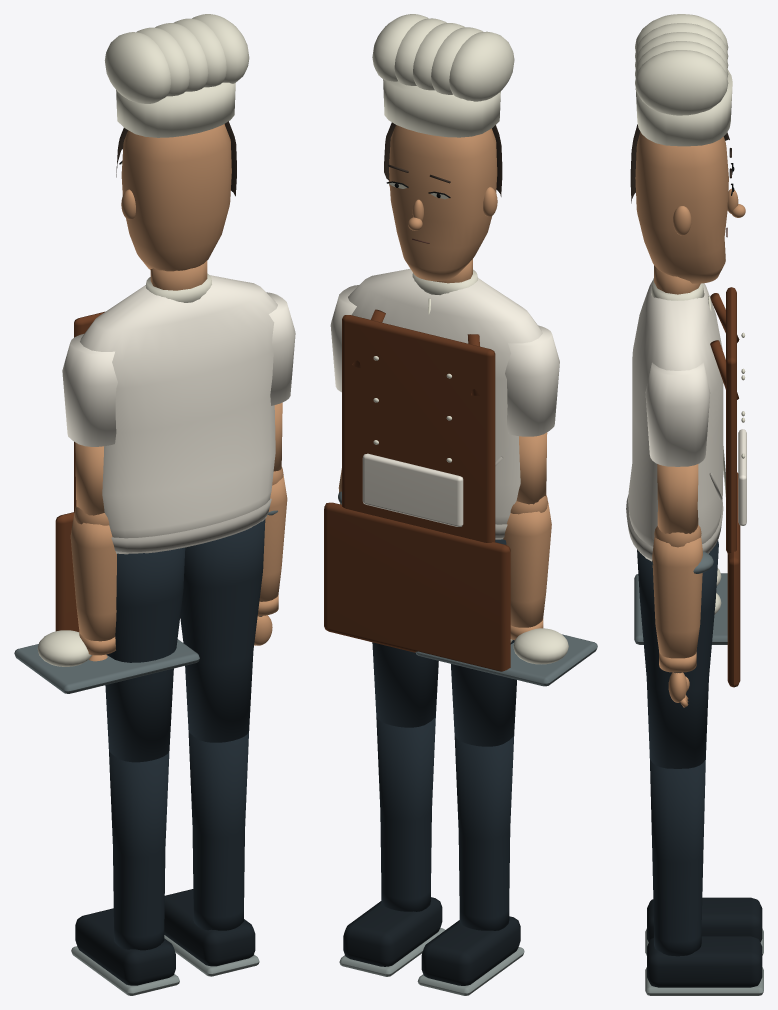
Rendered from npc_dining.glb.
3 views of the same model, side by side, from view 1: azimuth 30°, elevation 25°; view 2: azimuth 150°, elevation 25°; view 3: azimuth 270°, elevation 25° (orthographic).
Parts seen in each view (by area): view 1: ApronPocket, TrouserThigh.001, ChefHatBand, AdultFace, TrouserThigh, Knee, Knee.001, Cuff, ShortSleeve, OrdinaryShoe, Tray, OrdinaryShoe.001 (+10 smaller); view 2: ApronBib, ApronPocket, ChefHatBand, AdultFace, Knee, Knee.001, Cuff, ShortSleeve, TrouserThigh.001, TrouserThigh, OrdinaryShoe, OrdinaryShoe.001 (+8 smaller); view 3: ApronPocket, AdultFace, ChefHatBand, Knee.001, TrouserThigh.001, Cuff.001, ShortSleeve.001, ApronBib, OrdinaryShoe.001, ExposedUpperArm.001, OrdinaryShoe, Tray (+6 smaller).
Part boxes in pixels (bbox=[...]): ApronPocket: bbox=[80, 275, 277, 554]; TrouserThigh.001: bbox=[180, 519, 265, 742]; ChefHatBand: bbox=[104, 14, 249, 137]; AdultFace: bbox=[121, 124, 231, 271]; TrouserThigh: bbox=[105, 547, 185, 762]; Knee: bbox=[109, 750, 169, 950]; Knee.001: bbox=[188, 731, 248, 930]; Cuff: bbox=[70, 506, 116, 655]; ShortSleeve: bbox=[62, 334, 117, 446]; OrdinaryShoe: bbox=[75, 908, 175, 985]; Tray: bbox=[14, 639, 199, 693]; OrdinaryShoe.001: bbox=[164, 889, 255, 966]; ApronBib: bbox=[324, 309, 510, 671]; ApronPocket: bbox=[348, 268, 542, 539]; ChefHatBand: bbox=[372, 14, 514, 137]; AdultFace: bbox=[388, 125, 497, 281]; Knee: bbox=[454, 734, 514, 930]; Knee.001: bbox=[376, 715, 435, 911]; Cuff: bbox=[503, 495, 551, 640]; ShortSleeve: bbox=[505, 325, 559, 436]; TrouserThigh.001: bbox=[372, 642, 438, 727]; TrouserThigh: bbox=[451, 539, 516, 746]; OrdinaryShoe: bbox=[421, 916, 520, 985]; OrdinaryShoe.001: bbox=[343, 897, 442, 966]; ApronPocket: bbox=[628, 280, 746, 561]; AdultFace: bbox=[635, 132, 745, 283]; ChefHatBand: bbox=[635, 14, 732, 146]; Knee.001: bbox=[649, 757, 705, 956]; TrouserThigh.001: bbox=[637, 540, 718, 768]; Cuff.001: bbox=[652, 525, 702, 672]; ShortSleeve.001: bbox=[645, 362, 710, 466]; ApronBib: bbox=[710, 287, 740, 687]; OrdinaryShoe.001: bbox=[647, 936, 762, 987]; ExposedUpperArm.001: bbox=[657, 464, 698, 533]; OrdinaryShoe: bbox=[647, 897, 762, 942]; Tray: bbox=[634, 573, 727, 644].
Bounding box in the file's own units: 0.451 × 1.65 × 0.221.
